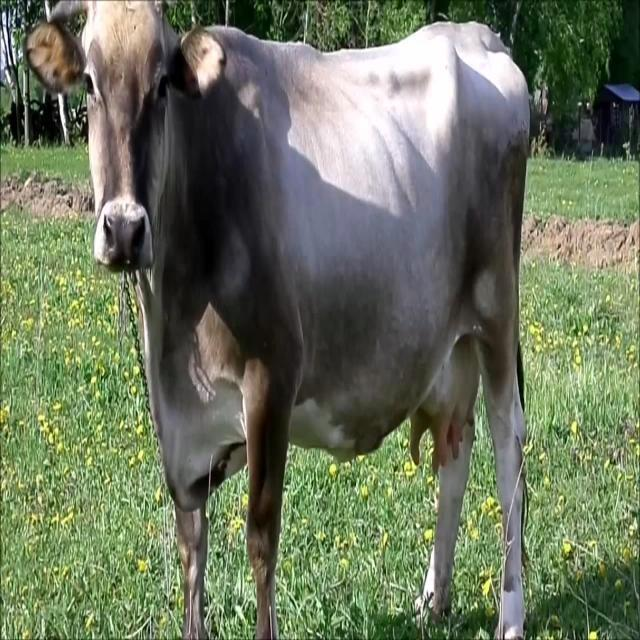cow: (28, 2, 529, 640)
